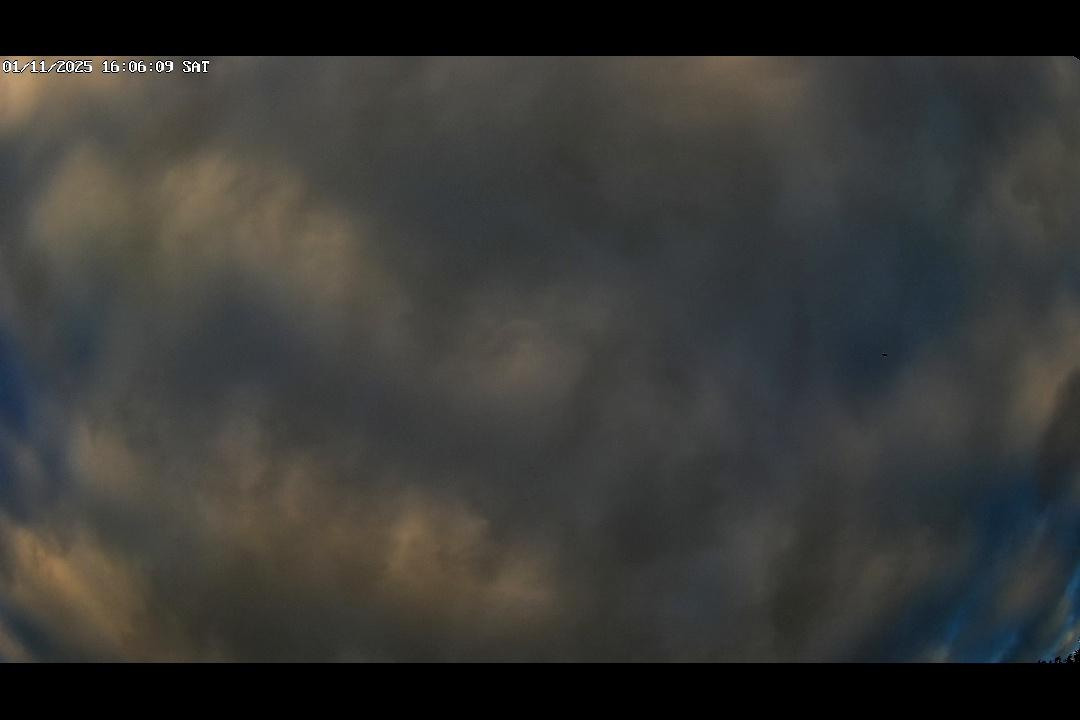WildLife: (877, 350, 893, 359)
